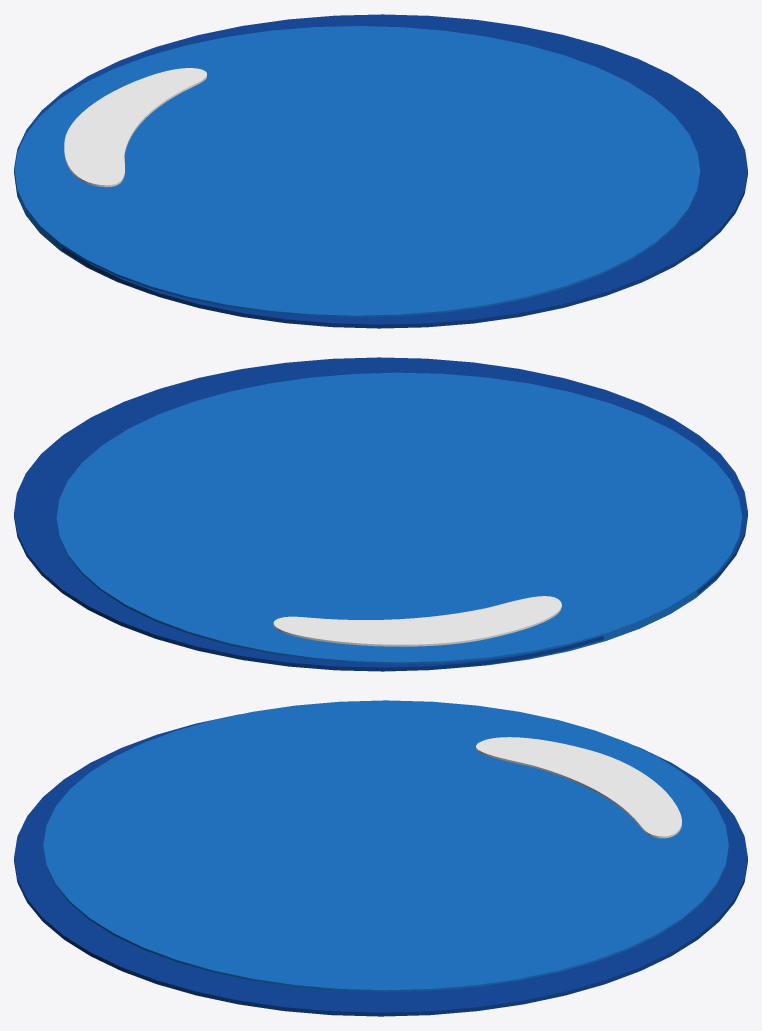
The model's file is emoji_u1f535.glb.
3 views of the same model, one above another, from view 1: azimuth 30°, elevation 25°; view 2: azimuth 150°, elevation 25°; view 3: azimuth 270°, elevation 25° (orthographic).
Visible parts, largest first — view 1: emoji_u1f535; view 2: emoji_u1f535; view 3: emoji_u1f535.
Part boxes in pixels (left/top/right/bottom): emoji_u1f535: left=14, top=14, right=747, bottom=328; emoji_u1f535: left=14, top=357, right=747, bottom=671; emoji_u1f535: left=14, top=700, right=747, bottom=1016.
Size of the model in its own units: 0.0339 by 0.0006 by 0.0339.
